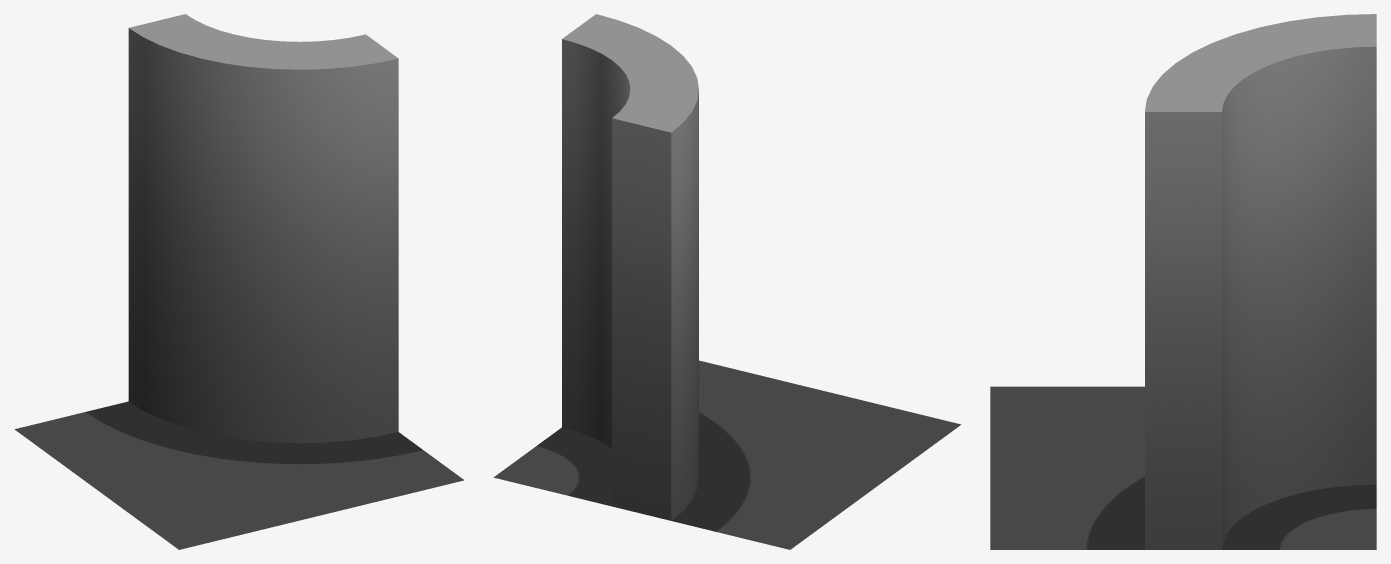
File: SM_MuurHoekRond.fbx
3 renders of one model, left to right at view 1: azimuth 30°, elevation 25°; view 2: azimuth 150°, elevation 25°; view 3: azimuth 270°, elevation 25°, orthographic. The views are drawn at different scales.
Parts seen in each view (by area): view 1: SM_muurHoekRond; view 2: SM_muurHoekRond; view 3: SM_muurHoekRond.
Boxes of the visible parts, x1=… form: SM_muurHoekRond: x1=15, y1=14, x2=463, y2=549; SM_muurHoekRond: x1=493, y1=14, x2=961, y2=549; SM_muurHoekRond: x1=990, y1=14, x2=1376, y2=549.
Size of the model in its own units: 200 by 250 by 200.
